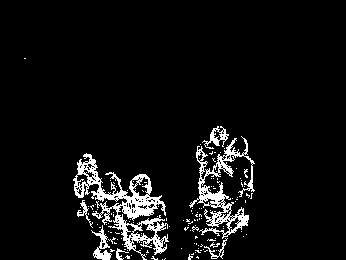person: (186, 173, 251, 260), (116, 171, 170, 260), (72, 152, 107, 260), (92, 171, 132, 260), (195, 124, 231, 201), (215, 134, 255, 202)
